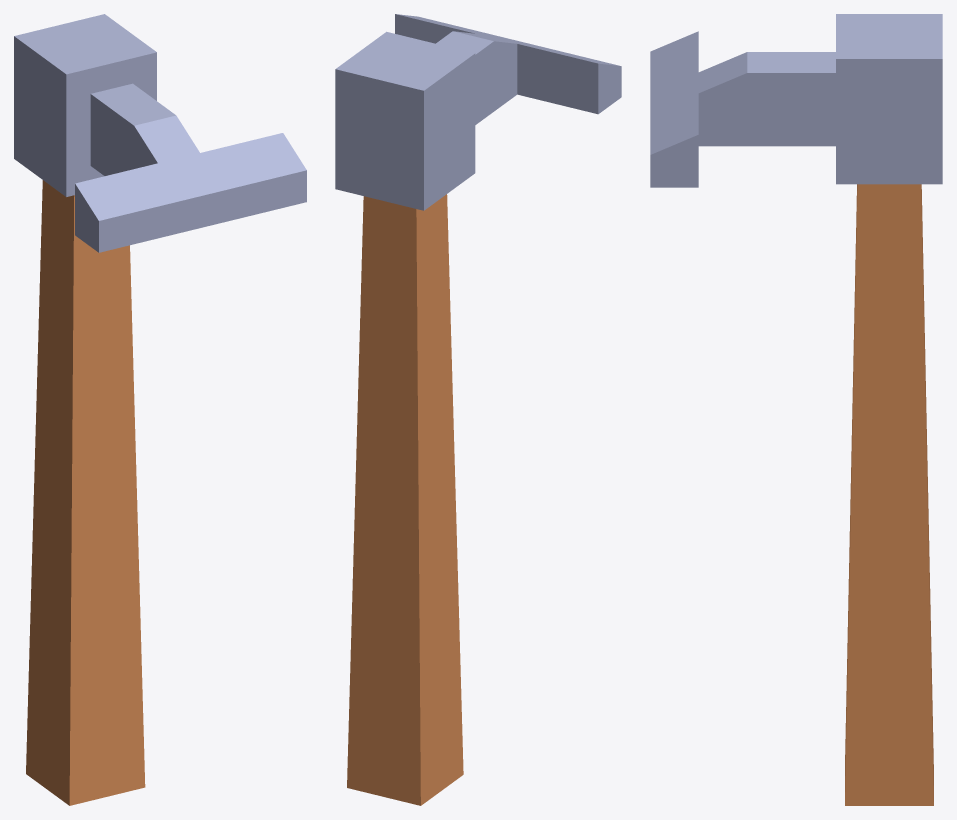
The model's file is toolHoe.obj.
The picture shows the model from 3 angles, left to right: view 1: azimuth 30°, elevation 25°; view 2: azimuth 150°, elevation 25°; view 3: azimuth 270°, elevation 25°; orthographic projection. The views are drawn at different scales.
Parts seen in each view (by area): view 1: toolHoe; view 2: toolHoe; view 3: toolHoe.
Boxes of the visible parts, x1,y1,x2,y2 form: toolHoe: (14, 14, 306, 805); toolHoe: (335, 14, 621, 805); toolHoe: (650, 14, 942, 805).
Bounding box in the file's own units: 0.2837 × 0.96 × 0.3391.
